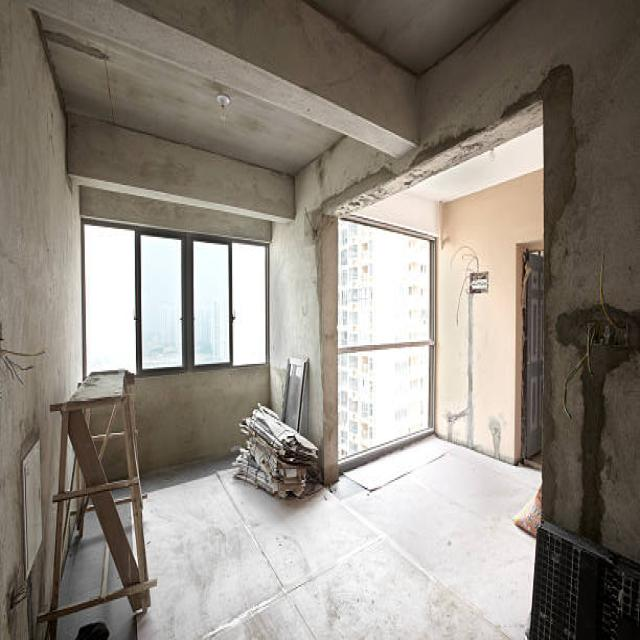floor: (135, 433, 542, 640), (58, 512, 106, 608), (116, 501, 138, 567), (107, 550, 123, 594), (111, 486, 132, 501)
wall: (269, 0, 640, 566), (0, 1, 84, 640), (435, 168, 544, 464), (66, 112, 295, 221), (133, 365, 270, 476), (79, 185, 272, 243), (515, 240, 544, 464), (319, 213, 338, 488), (350, 192, 444, 237), (108, 438, 129, 485), (90, 403, 114, 437), (109, 404, 123, 433)
